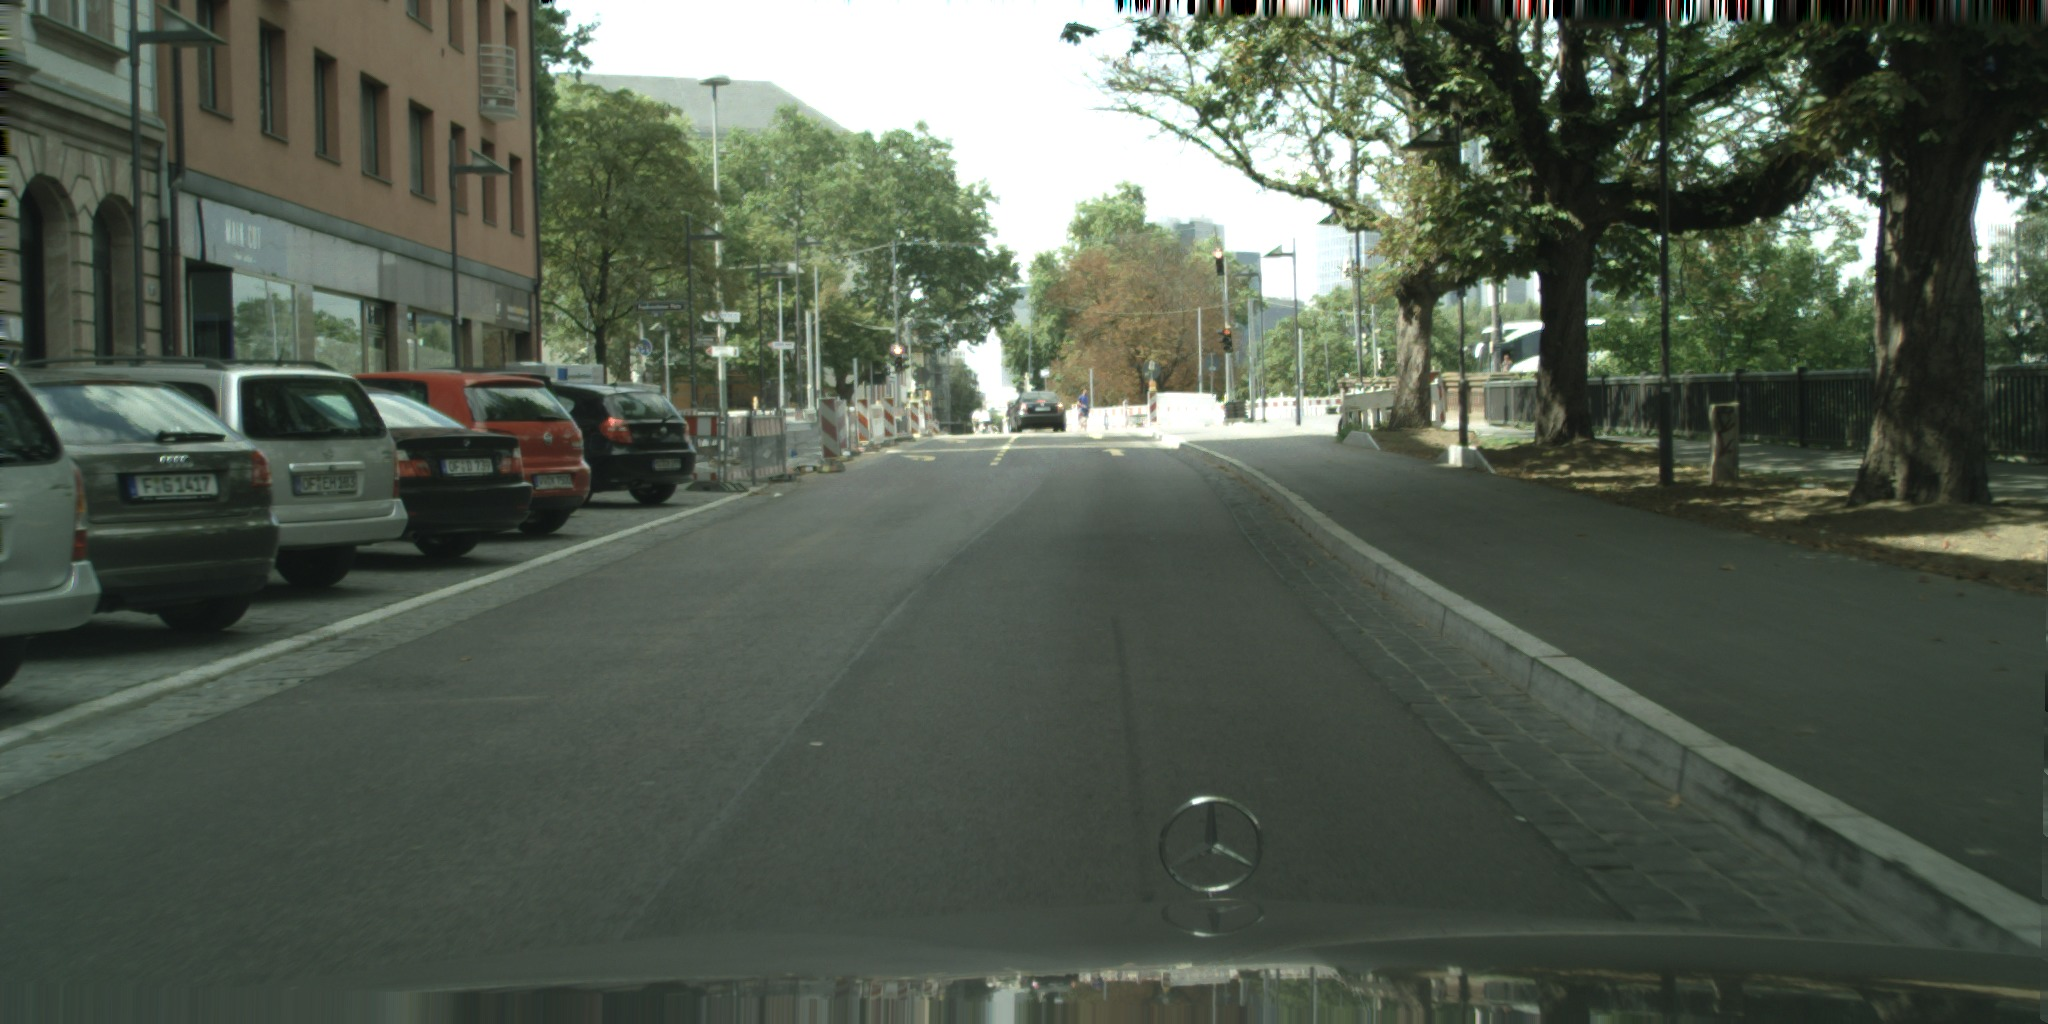bicycle: (1338, 377, 1381, 438)
bus: (1474, 318, 1606, 394)
car: (2, 354, 407, 588), (0, 366, 281, 635), (328, 371, 592, 536), (318, 387, 534, 560), (0, 362, 101, 692), (517, 380, 696, 508), (401, 366, 556, 425), (1008, 391, 1066, 434)
person: (1076, 387, 1090, 430), (977, 410, 990, 435), (971, 409, 981, 433)
